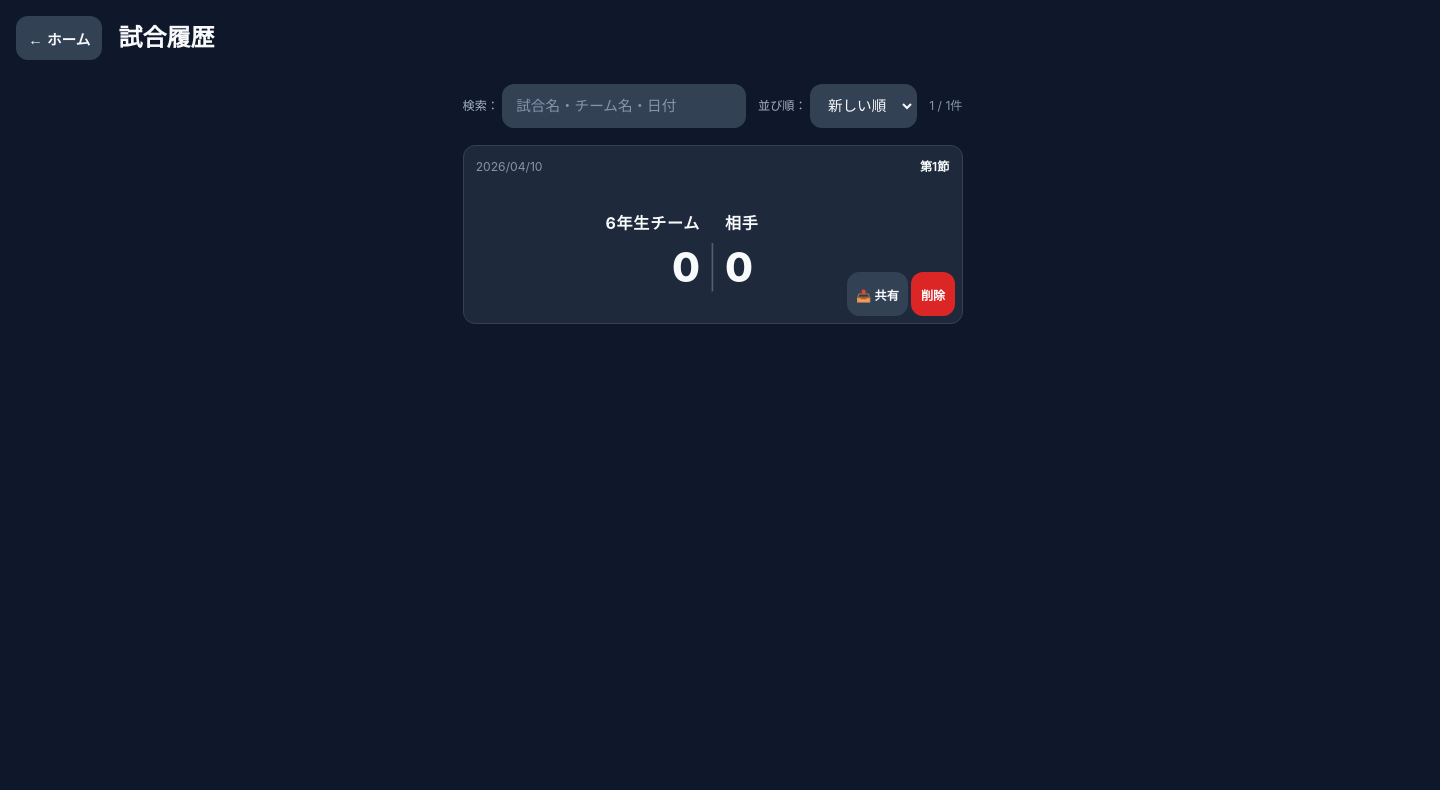
Test case: 履歴の後編集: 保存に失敗したとき › 保存できたときは知らせない（毎回エラーを出さない）
Click the button with class "history-card-main" at [509, 166], box [476, 158, 949, 311]
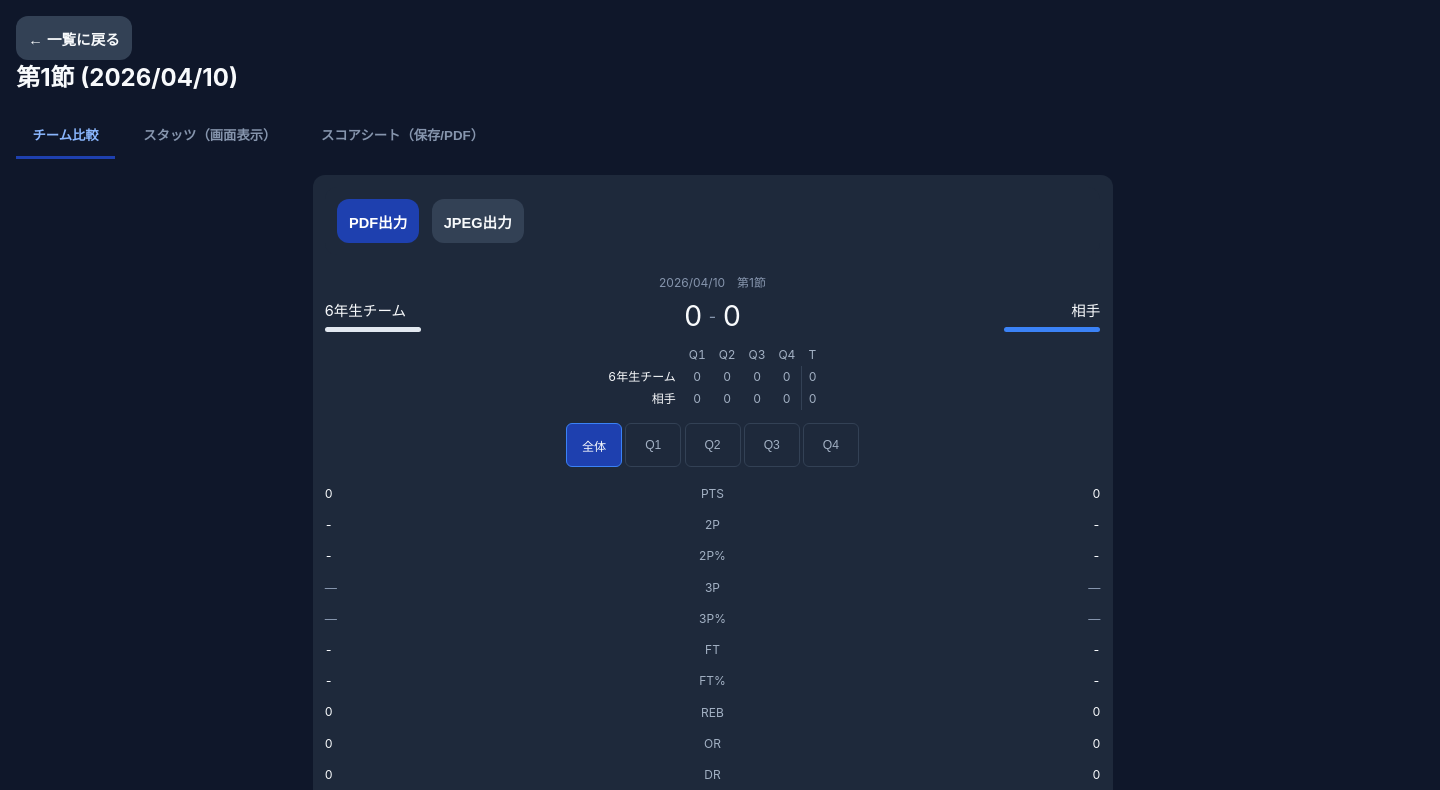
Click the button "スコアシート（保存/PDF）" at [403, 136], box [305, 112, 500, 159]
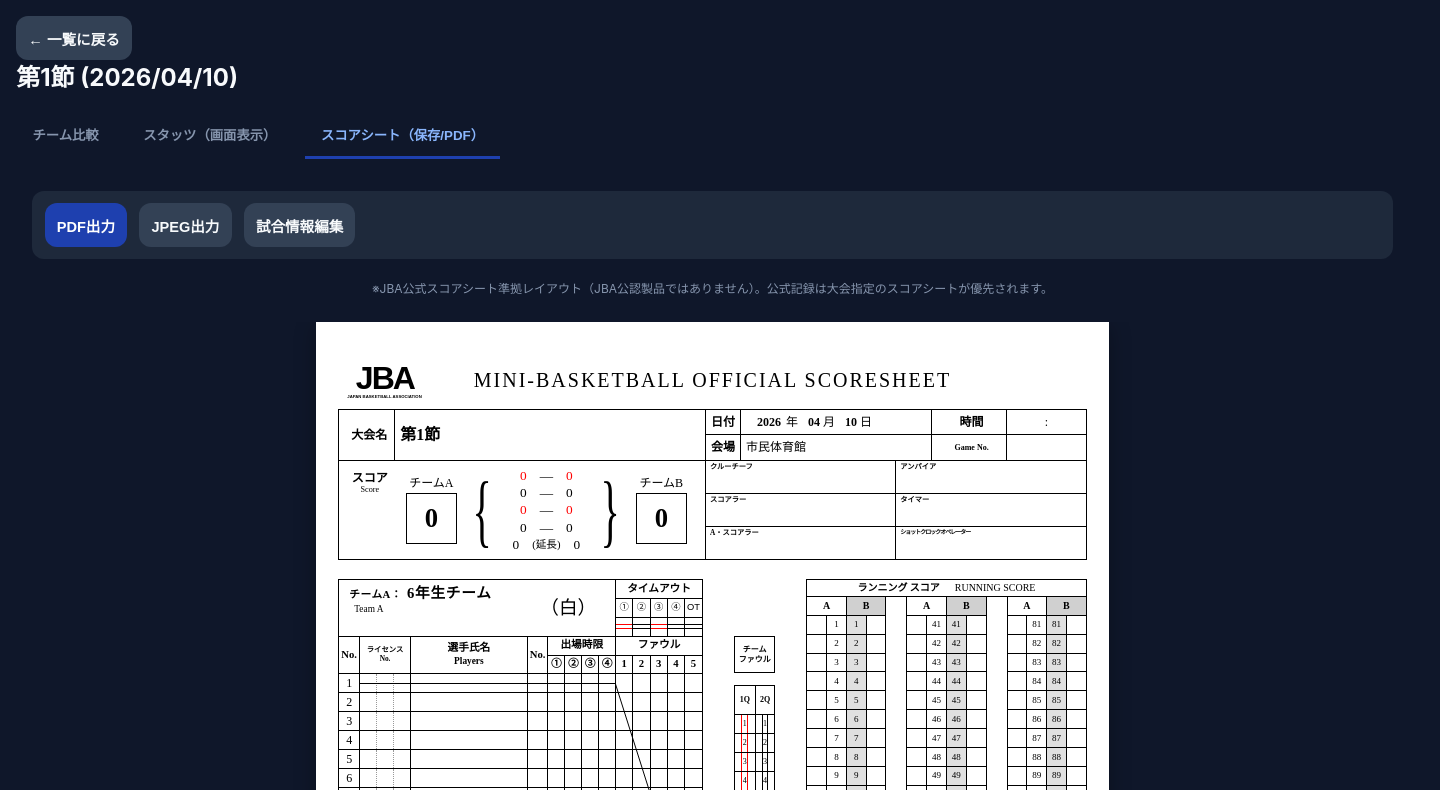
Click the button "試合情報編集" at [300, 225], box [244, 203, 356, 247]
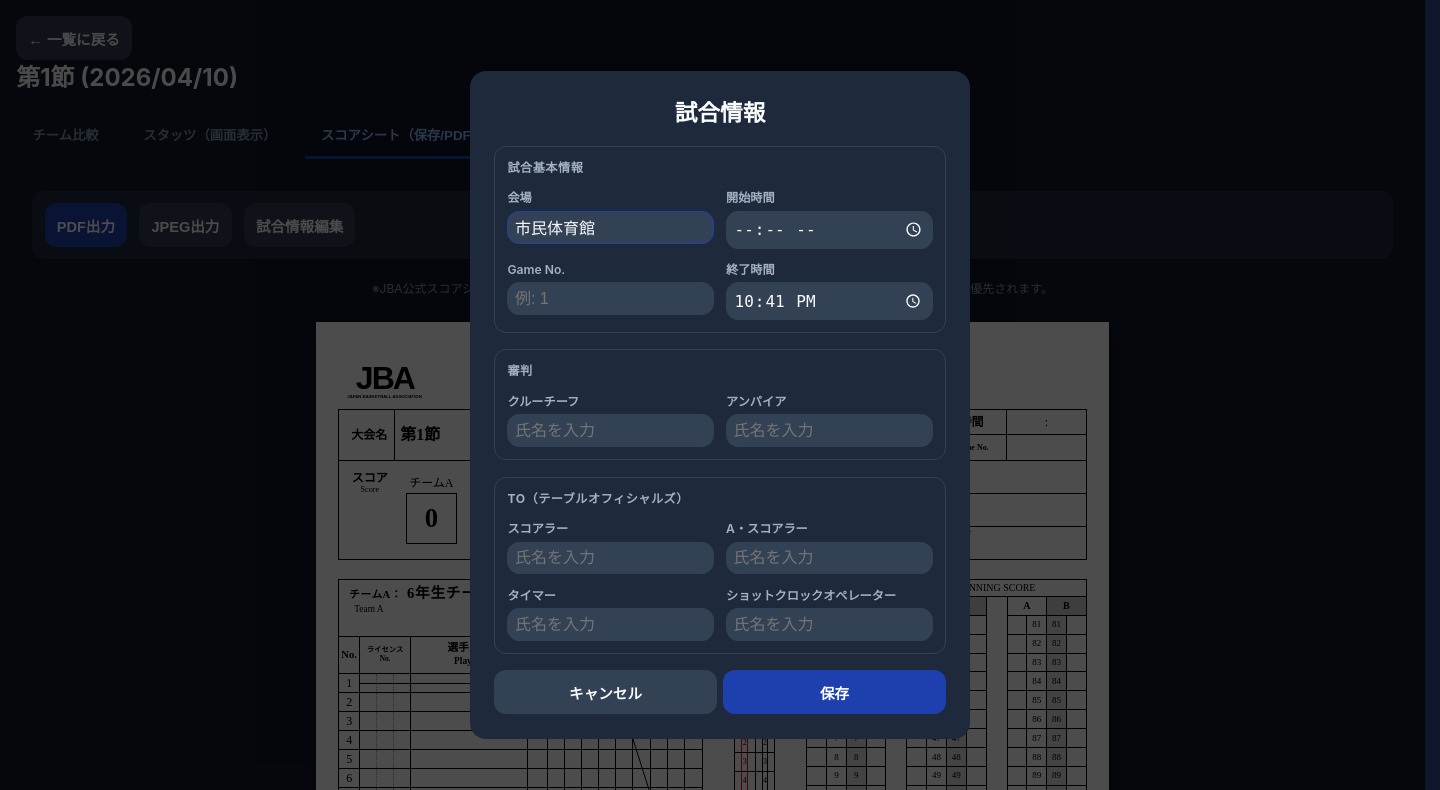
Replace the text in the field labelled "会場" with "中央体育館" at [611, 227], box [507, 211, 714, 244]
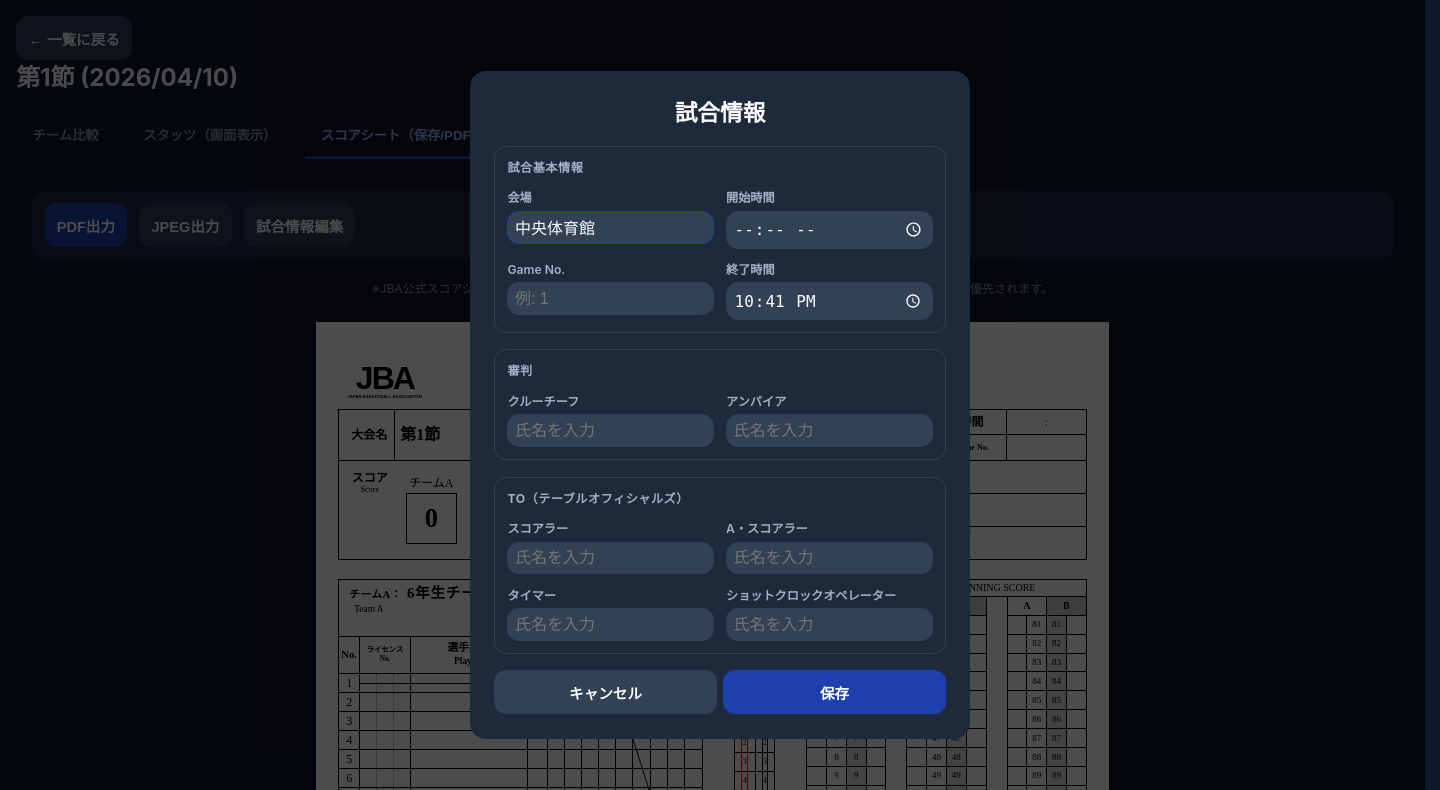
Click the button "保存" at [834, 692], box [723, 670, 946, 714]
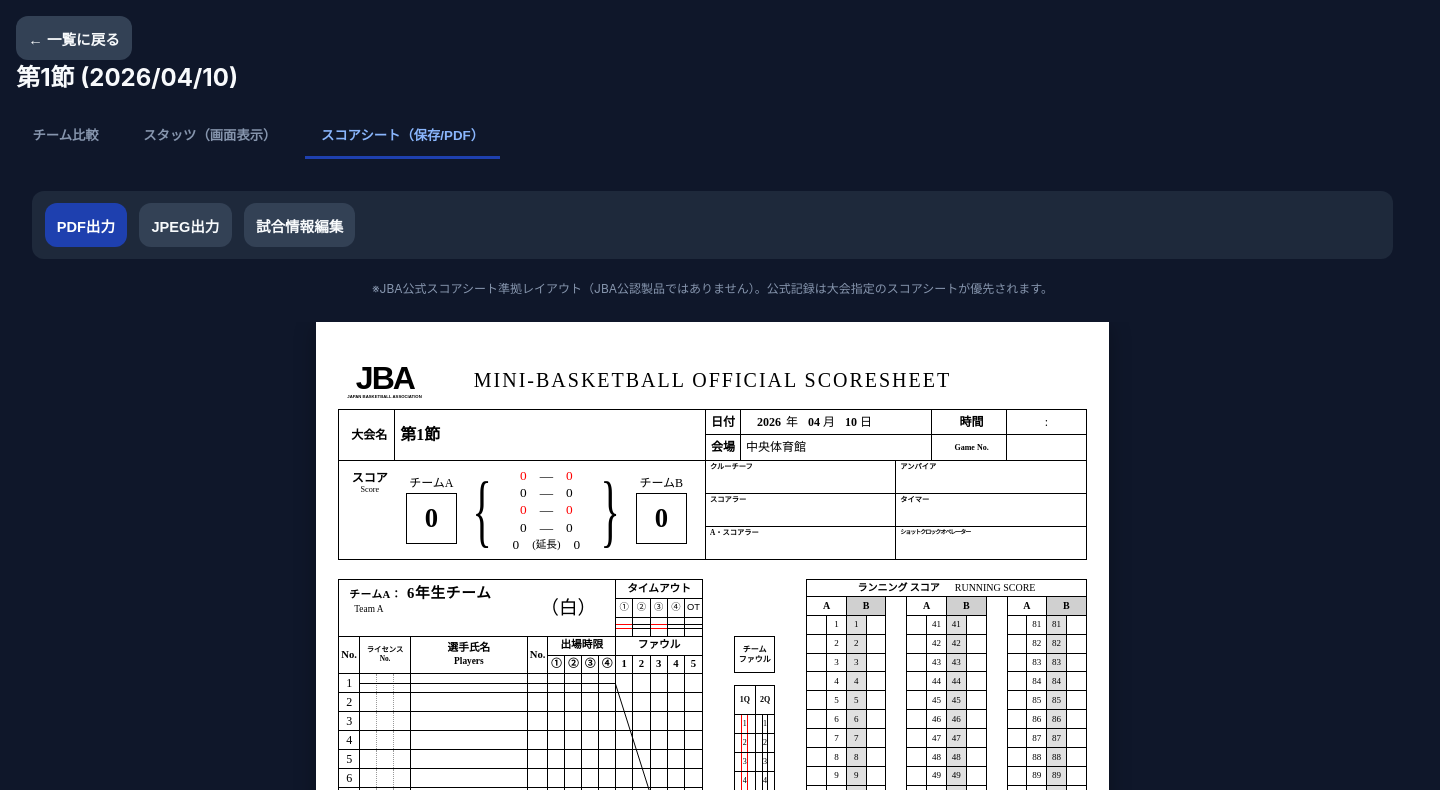
Check: the text "中央体育館" is shown, box [746, 440, 806, 455]
